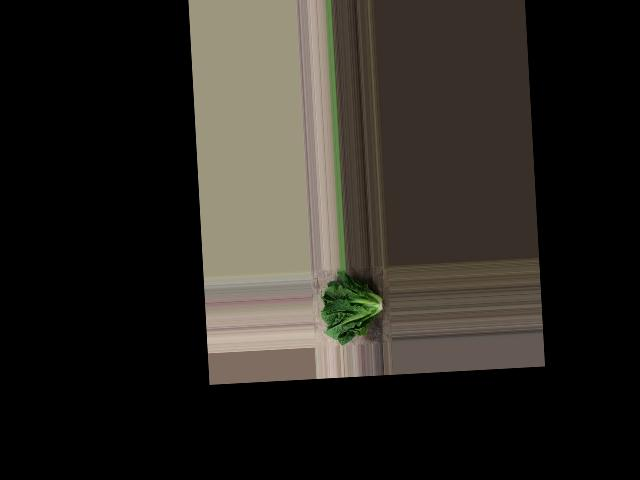lettuce: (317, 268, 389, 344)
